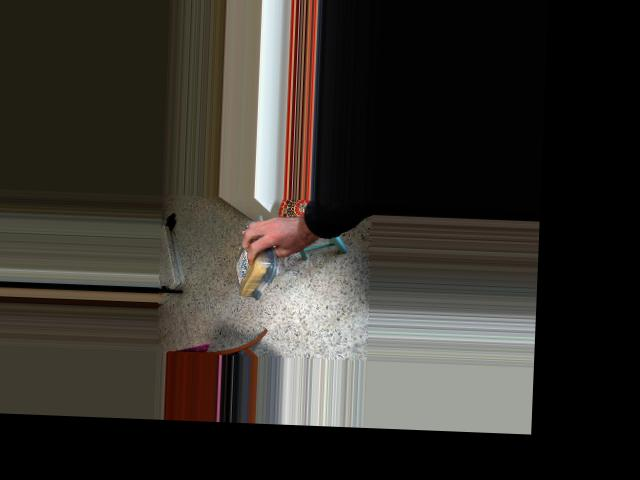cheese: (230, 225, 280, 302)
